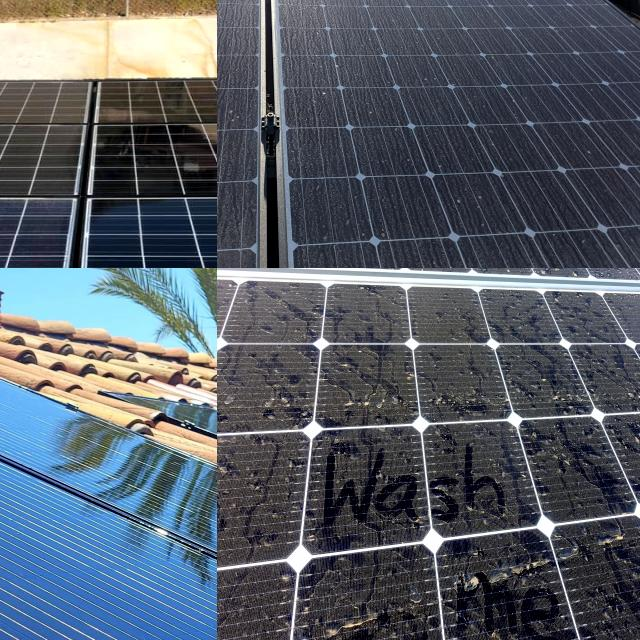crack: (0, 78, 171, 211), (47, 548, 199, 640), (0, 190, 161, 268), (59, 430, 174, 532), (98, 82, 217, 178), (0, 548, 123, 640), (0, 373, 64, 472), (0, 382, 75, 460), (0, 363, 64, 452), (0, 449, 59, 529), (0, 450, 51, 541), (0, 435, 63, 495), (0, 336, 29, 391)
dust: (461, 45, 640, 268), (287, 41, 443, 268), (316, 285, 478, 410), (328, 446, 523, 524), (217, 133, 320, 268), (518, 301, 640, 413), (571, 446, 640, 640), (313, 549, 438, 640), (447, 545, 557, 640), (228, 268, 416, 313), (217, 439, 285, 548), (217, 0, 268, 114), (282, 0, 431, 39), (447, 268, 573, 310), (217, 0, 263, 114), (455, 0, 530, 53), (217, 0, 317, 25)
